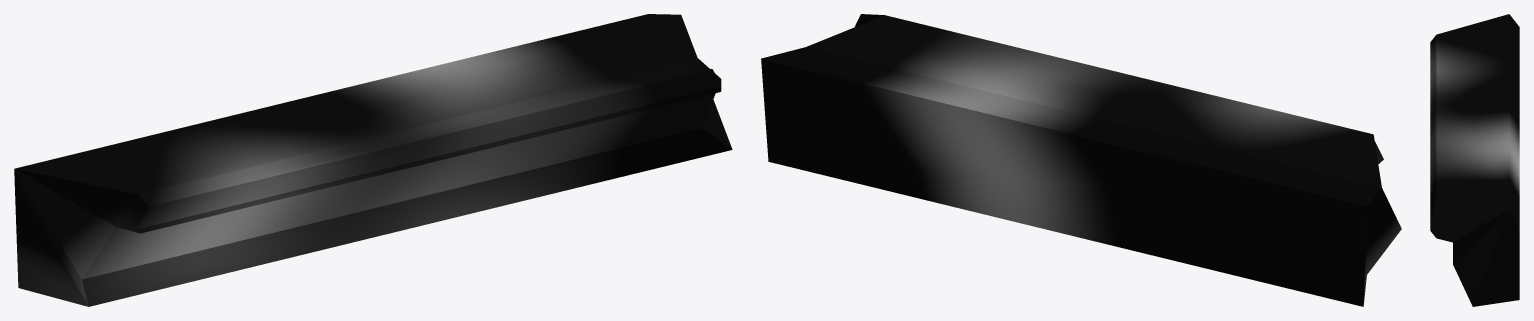
File: BrokenTrim.fbx
3 renders of one model, left to right at view 1: azimuth 30°, elevation 25°; view 2: azimuth 150°, elevation 25°; view 3: azimuth 270°, elevation 25°, orthographic. The views are drawn at different scales.
Visible parts, largest first — view 1: BrokenTrim; view 2: BrokenTrim; view 3: BrokenTrim.
Part boxes in pixels (x1,y1,x2,y2): BrokenTrim: (14, 14, 732, 306); BrokenTrim: (761, 14, 1401, 306); BrokenTrim: (1430, 14, 1519, 306).
Bounding box in the file's own units: 2.37 × 0.421 × 0.421.
